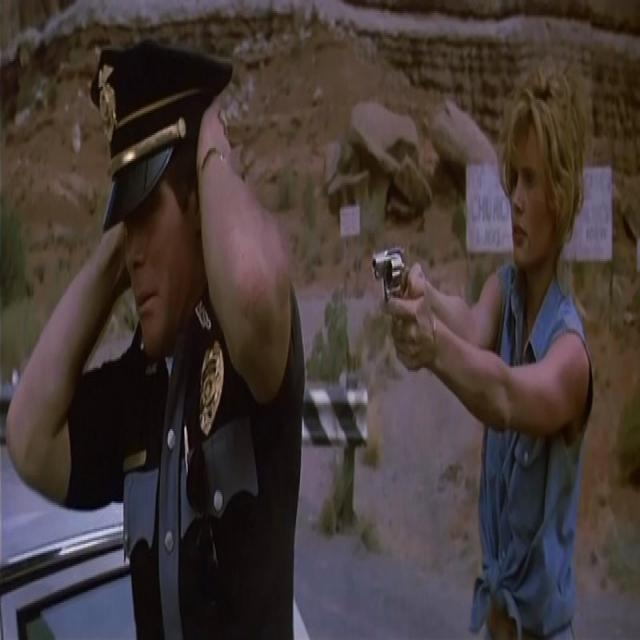gun-knife-thesis - v11 Yolov5 augmented: (370, 238, 416, 352)
